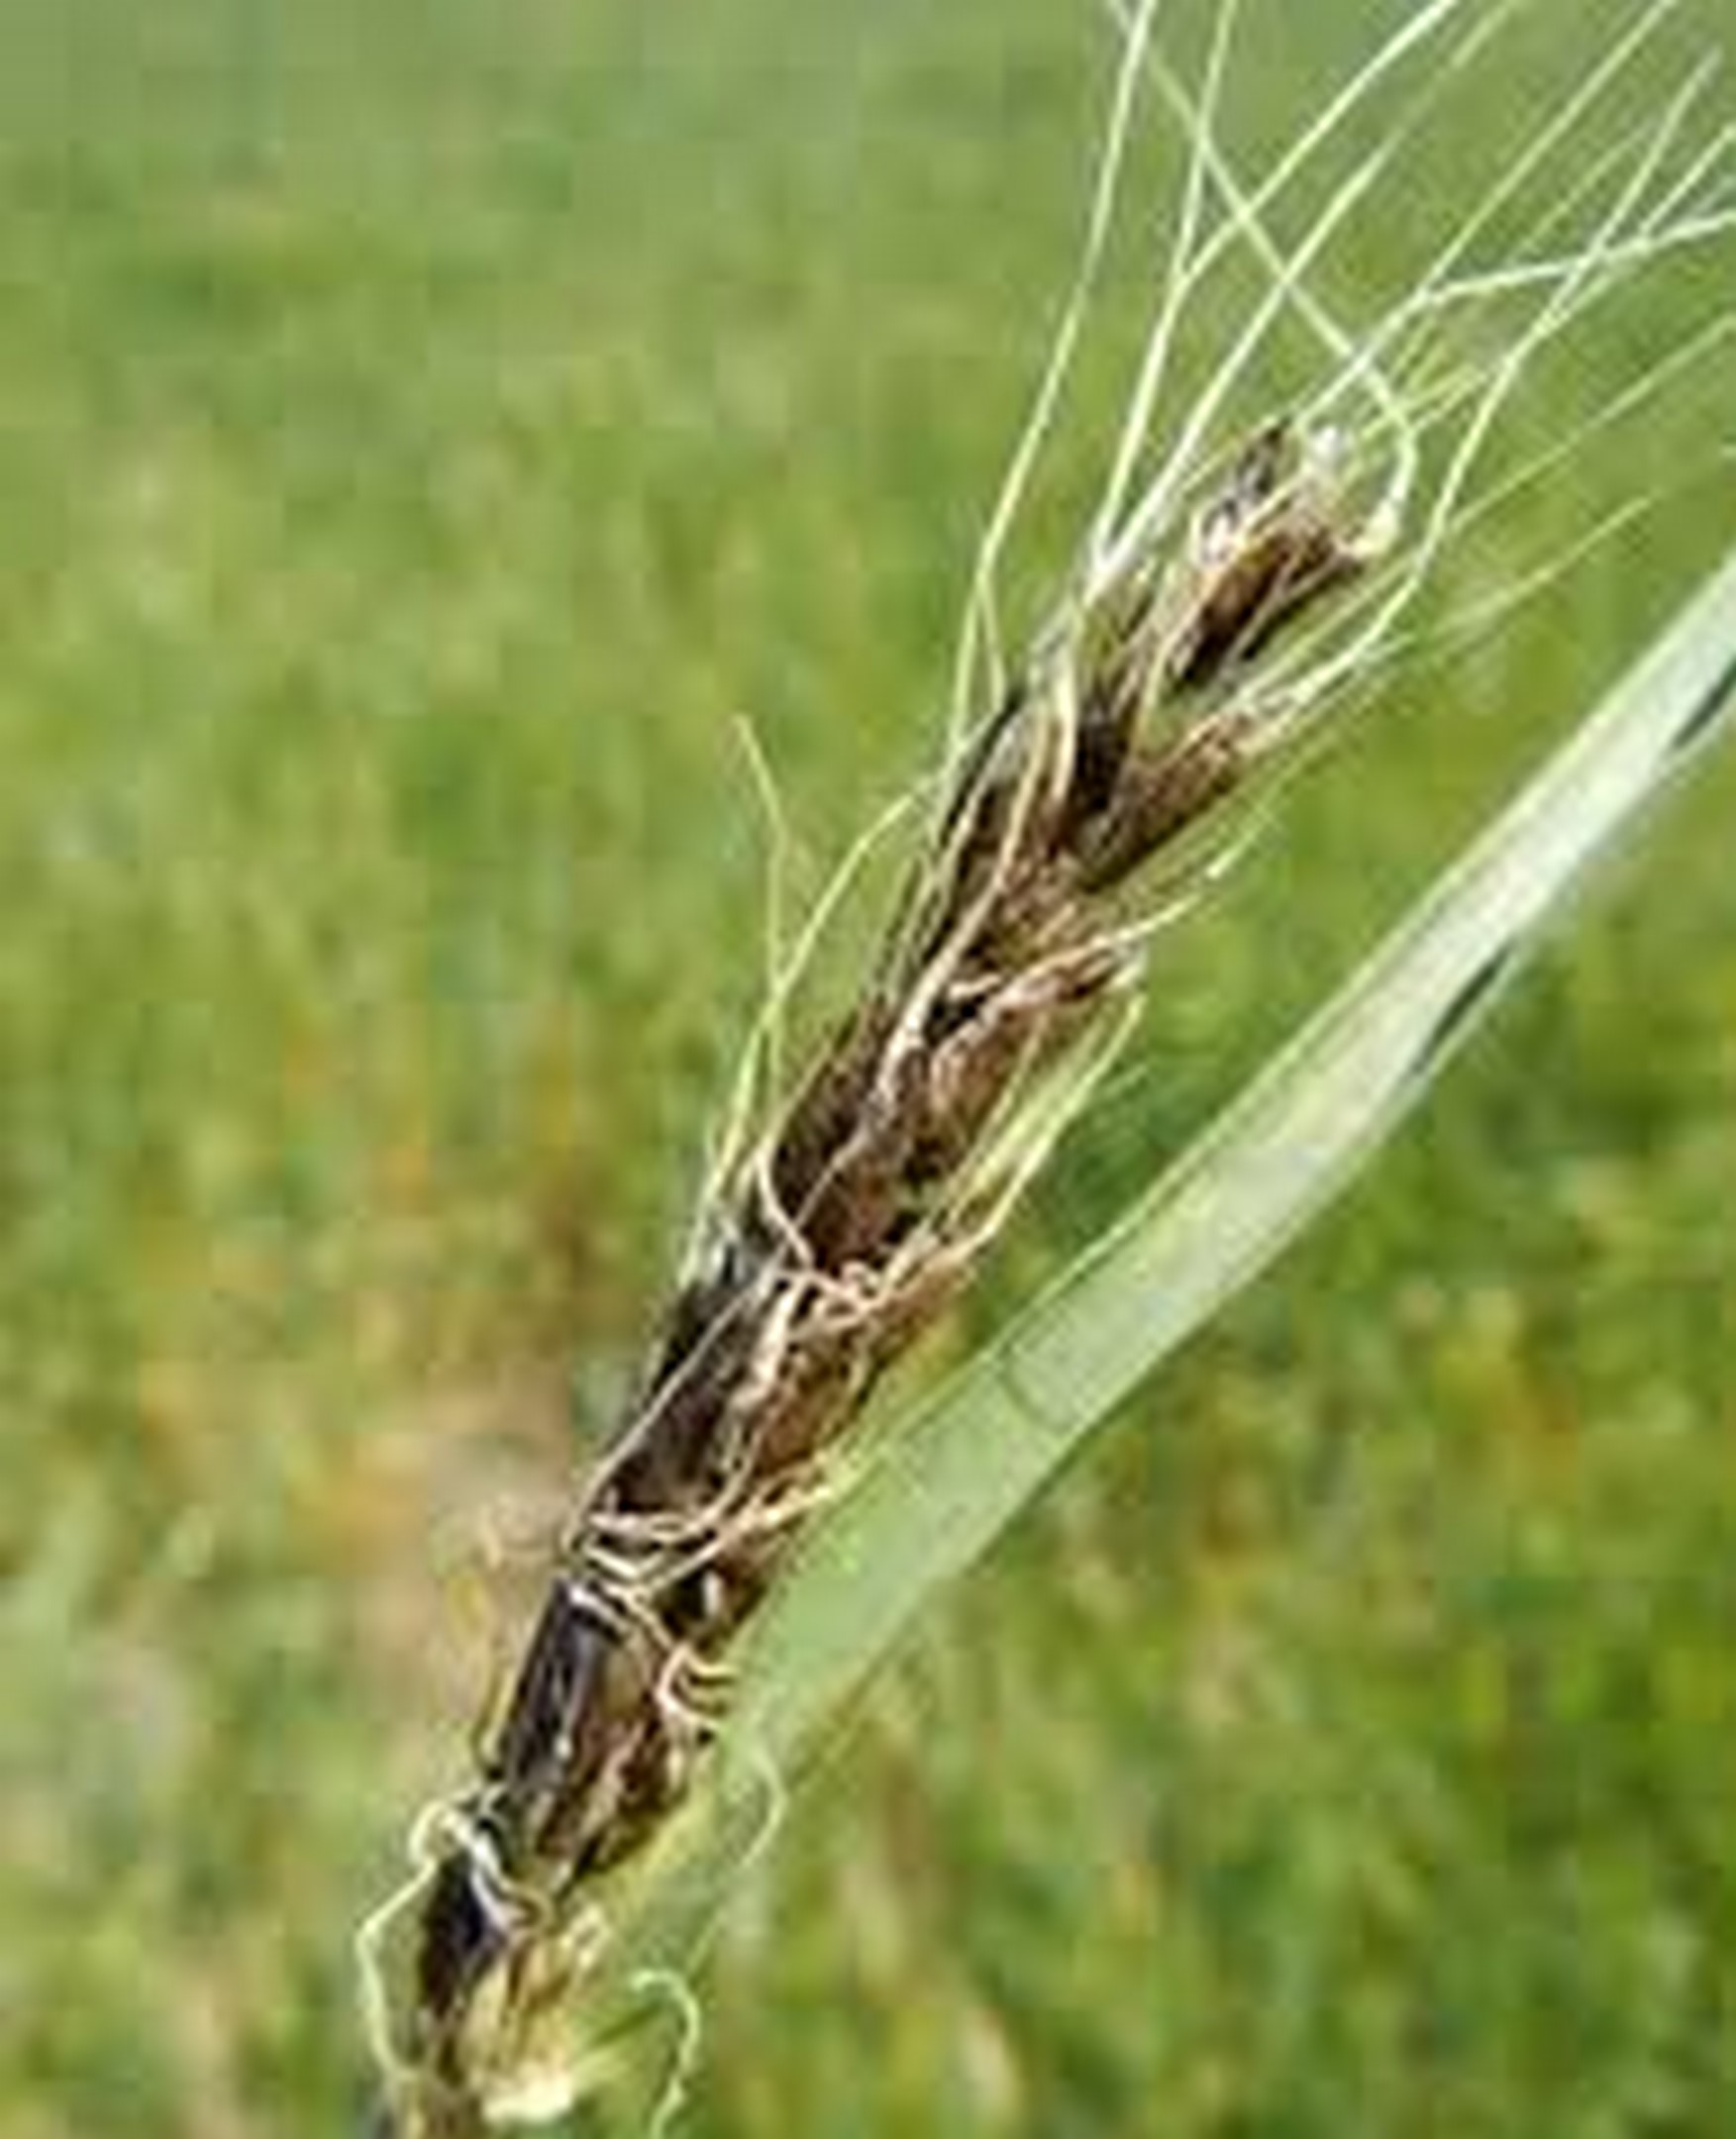Wheat Loose Smut: (443, 441, 1359, 1967)
